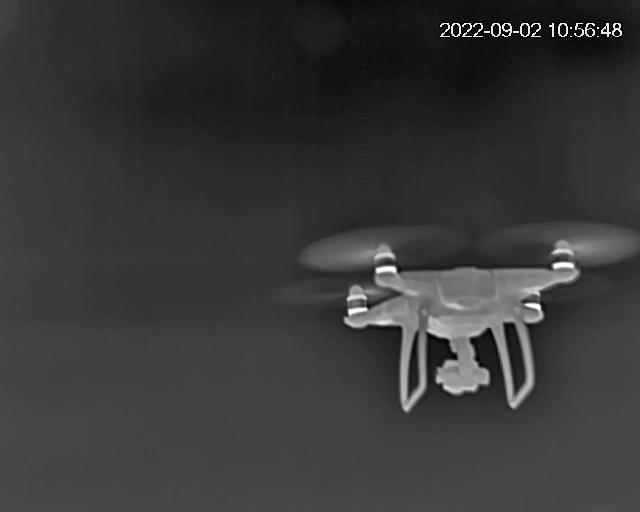DJI-Phantom: (324, 232, 596, 411)
